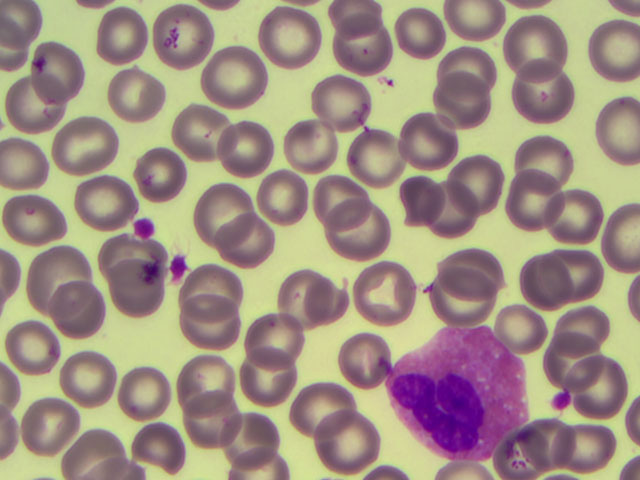Platelets: (128, 214, 158, 239), (551, 389, 570, 407)
RBC: (64, 421, 135, 480), (117, 421, 188, 480), (566, 421, 637, 480), (88, 6, 159, 64), (117, 70, 188, 128), (148, 5, 219, 63), (203, 47, 274, 105), (177, 98, 248, 156), (214, 123, 285, 181), (131, 143, 202, 201), (68, 165, 139, 223), (53, 114, 124, 172), (1, 151, 72, 209), (16, 200, 87, 258), (21, 243, 92, 301), (33, 275, 104, 333), (10, 321, 81, 379), (50, 344, 121, 402), (27, 395, 98, 453), (114, 366, 185, 424), (160, 354, 231, 412), (174, 385, 245, 443), (220, 416, 291, 474), (287, 383, 358, 441), (302, 415, 373, 473), (228, 355, 299, 413), (238, 318, 309, 376), (179, 297, 250, 355), (185, 252, 256, 310), (202, 222, 273, 280), (185, 186, 256, 244), (241, 168, 312, 226), (275, 111, 346, 169), (306, 74, 377, 132), (254, 10, 325, 68), (328, 22, 399, 80), (333, 6, 404, 64), (398, 11, 469, 69), (430, 34, 501, 92), (423, 79, 494, 137), (400, 100, 471, 158), (355, 126, 426, 184), (305, 163, 376, 221), (321, 204, 392, 262), (344, 264, 415, 322), (280, 269, 351, 327), (319, 323, 390, 381), (421, 281, 492, 339), (453, 246, 524, 304), (421, 183, 492, 241), (385, 165, 456, 223), (440, 143, 511, 201), (488, 169, 559, 227), (505, 131, 576, 189), (507, 53, 578, 111), (515, 21, 586, 79), (569, 18, 640, 76), (569, 107, 640, 165), (548, 185, 619, 243), (548, 242, 619, 300), (520, 252, 591, 310), (543, 291, 614, 349), (542, 335, 613, 393), (569, 367, 640, 425), (503, 420, 574, 478), (25, 42, 88, 100)
WBC: (391, 333, 533, 451)
